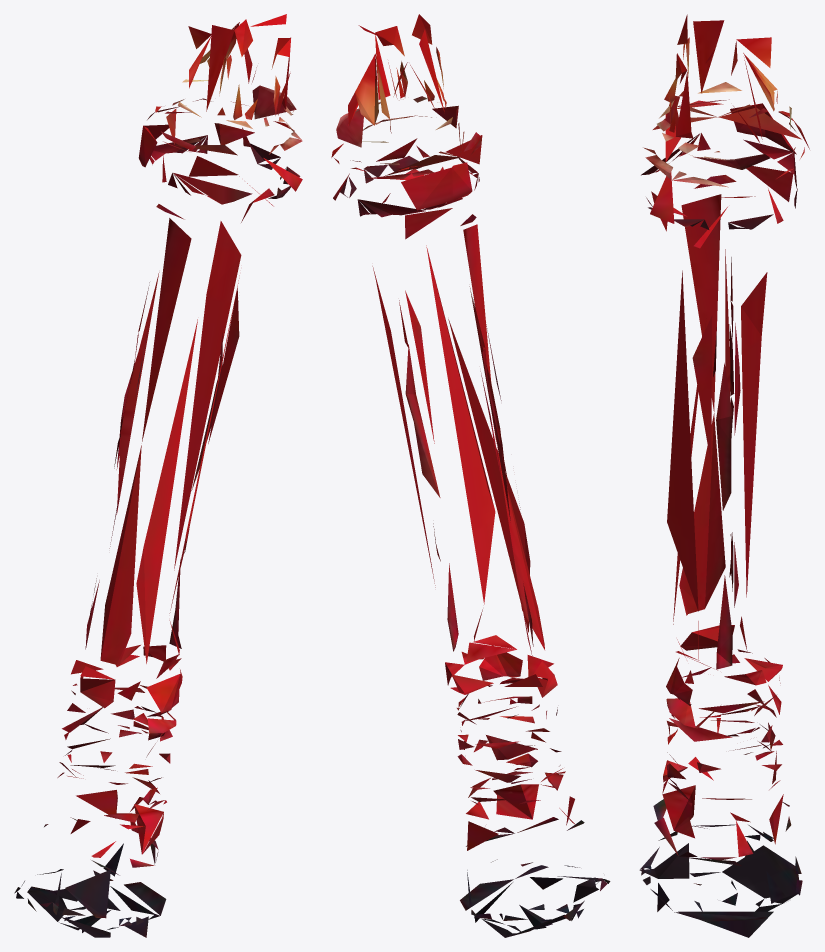
File: flare.glb
3 renders of one model, left to right at view 1: azimuth 30°, elevation 25°; view 2: azimuth 150°, elevation 25°; view 3: azimuth 270°, elevation 25°, orthographic. The views are drawn at different scales.
Parts seen in each view (by area): view 1: world; view 2: world; view 3: world.
Boxes of the visible parts, x1=… form: world: x1=14, y1=14, x2=302, y2=937; world: x1=331, y1=14, x2=610, y2=937; world: x1=639, y1=14, x2=809, y2=937.
Size of the model in its own units: 0.6 by 1.95 by 0.3125.
1 material, 1 textured.
